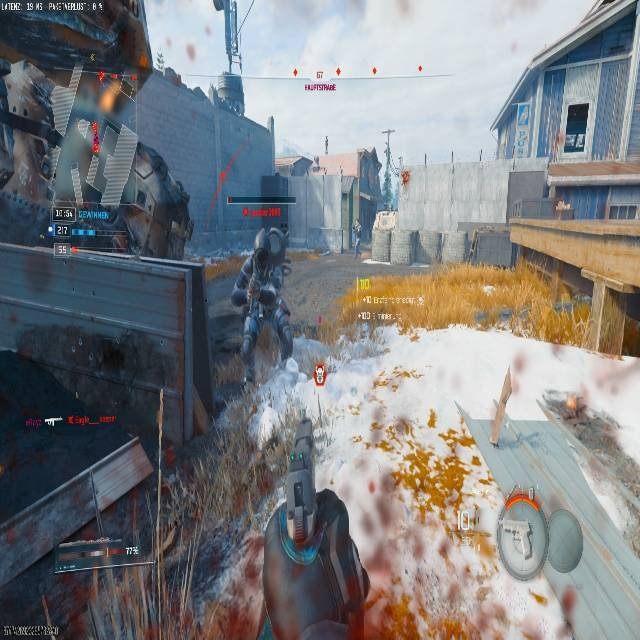head: (253, 226, 288, 261)
player: (231, 226, 295, 392)
